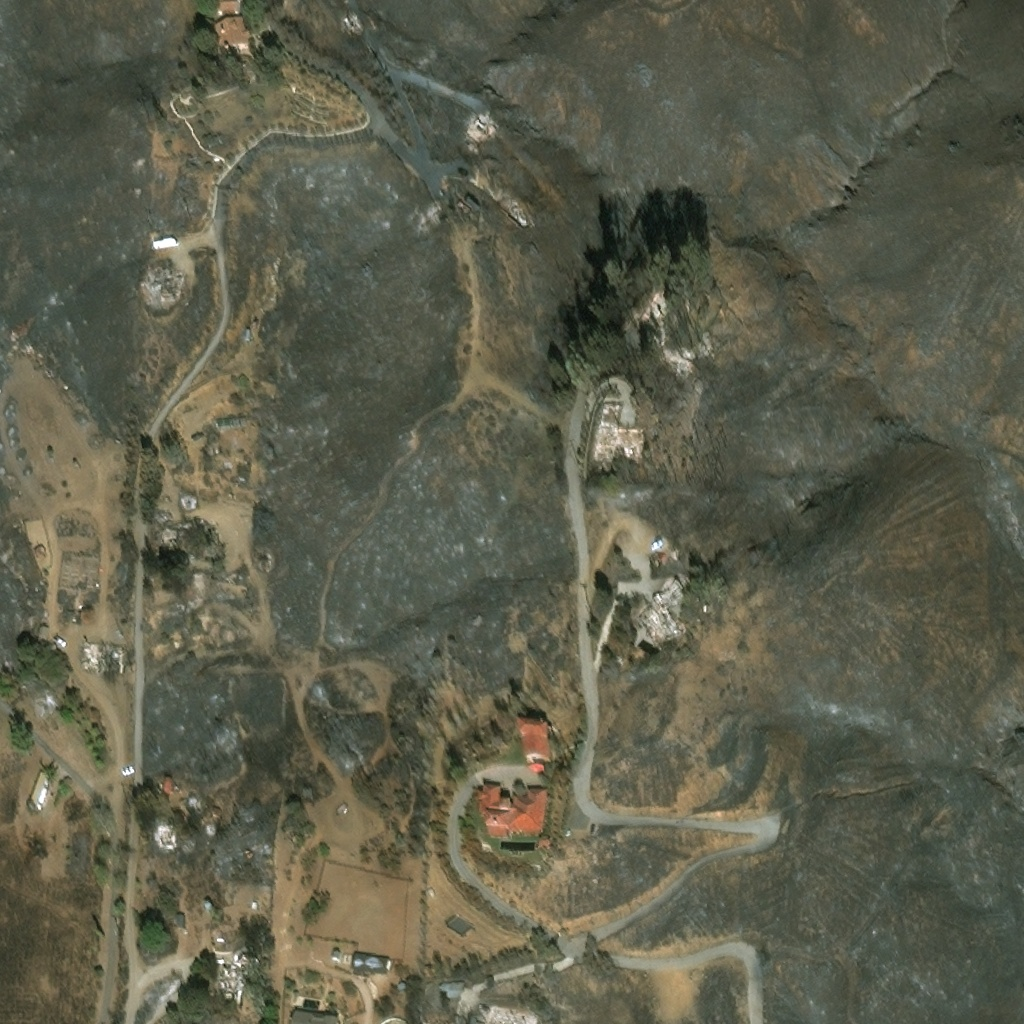0 no-damage: (476, 779, 544, 836), (517, 715, 546, 750), (289, 1006, 340, 1023), (437, 973, 464, 1001)
1 minor-damage: (349, 948, 387, 972), (538, 835, 553, 851)
3 destroyed: (634, 580, 690, 650), (594, 403, 644, 466), (214, 19, 254, 59), (655, 339, 695, 370), (222, 957, 257, 992), (498, 194, 533, 225), (79, 638, 120, 664), (486, 1004, 538, 1023), (27, 770, 51, 809), (464, 112, 492, 140), (150, 271, 181, 296), (158, 527, 180, 549), (213, 413, 243, 425), (153, 239, 178, 253), (220, 0, 241, 16), (465, 200, 481, 216), (161, 822, 173, 840), (178, 829, 192, 844), (698, 334, 713, 348), (185, 519, 204, 530), (65, 607, 79, 621), (36, 624, 48, 639), (161, 770, 170, 786), (684, 579, 695, 592), (183, 493, 193, 507), (175, 913, 184, 928), (329, 945, 340, 957), (83, 573, 95, 583), (186, 788, 198, 798), (188, 592, 198, 604), (156, 510, 169, 518), (720, 343, 730, 353), (720, 306, 730, 316), (203, 902, 212, 911), (395, 980, 404, 988), (244, 328, 249, 341), (234, 443, 242, 450), (250, 902, 257, 910), (221, 443, 228, 450), (566, 832, 572, 839), (215, 937, 223, 940)
